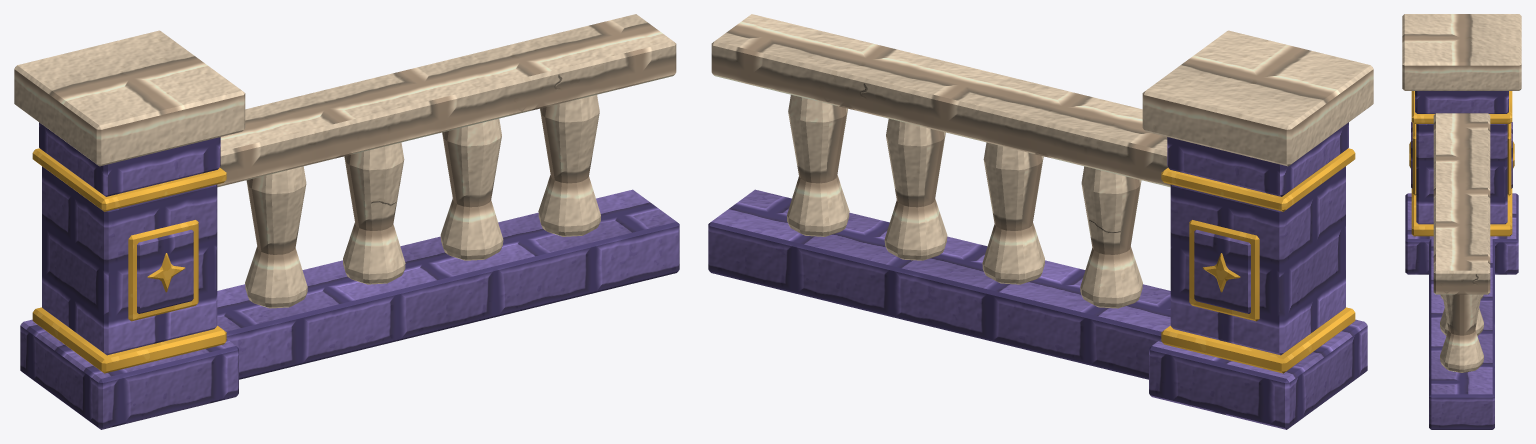
The model's file is Baranda.fbx.
The picture shows the model from 3 angles, left to right: view 1: azimuth 30°, elevation 25°; view 2: azimuth 150°, elevation 25°; view 3: azimuth 270°, elevation 25°; orthographic projection. The views are drawn at different scales.
Parts seen in each view (by area): view 1: Kit_Baranda; view 2: Kit_Baranda; view 3: Kit_Baranda.
Part boxes in pixels (x1,y1,x2,y2): Kit_Baranda: (14, 14, 679, 429); Kit_Baranda: (708, 14, 1373, 429); Kit_Baranda: (1402, 14, 1521, 429).
Bounding box in the file's own units: 3.08 × 1.5 × 0.76.
